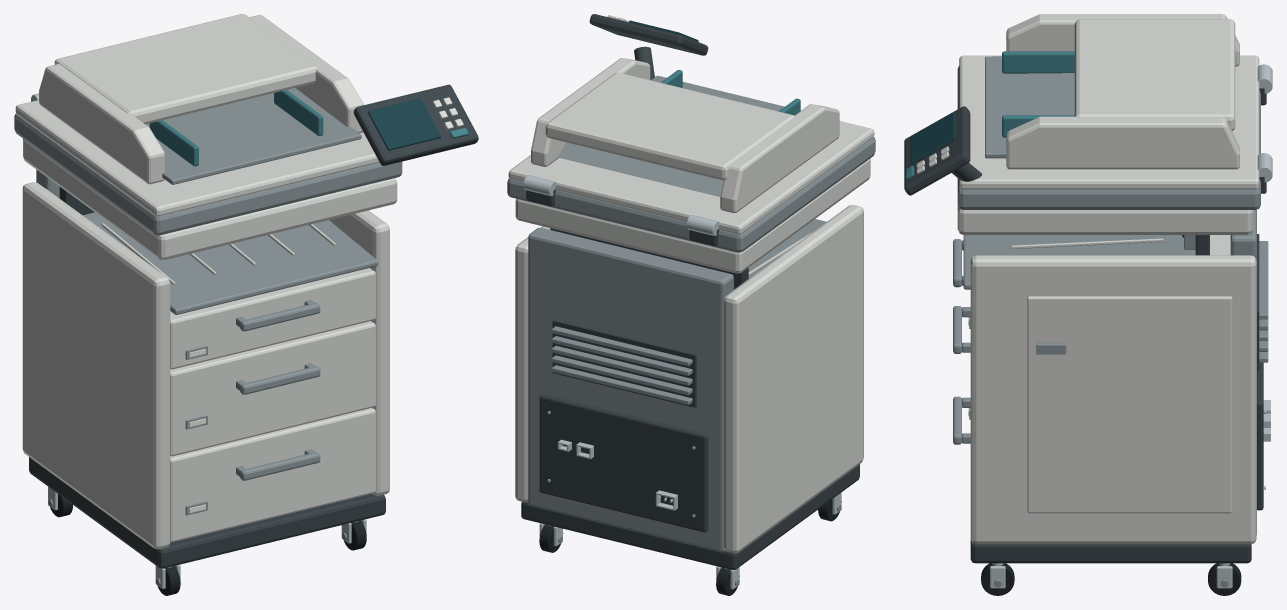
The model's file is city-office-multifunction-copier.glb.
3 views of the same model, side by side, from view 1: azimuth 30°, elevation 25°; view 2: azimuth 150°, elevation 25°; view 3: azimuth 270°, elevation 25° (orthographic). The views are drawn at different scales.
Parts seen in each view (by area): view 1: Assembly | Warm ivory molded housing, Assembly | Cool grey equipment shell, Assembly | Graphite internal fittings, Assembly | Opaque inactive display glass, Assembly | Muted teal enamel, Assembly | Matte rubber contact surfaces, Assembly | Satin machined metal; view 2: Assembly | Warm ivory molded housing, Assembly | Cool grey equipment shell, Assembly | Graphite internal fittings, Assembly | Satin machined metal, Assembly | Matte rubber contact surfaces; view 3: Assembly | Warm ivory molded housing, Assembly | Cool grey equipment shell, Assembly | Graphite internal fittings, Assembly | Muted teal enamel, Assembly | Satin machined metal, Assembly | Opaque inactive display glass, Assembly | Matte rubber contact surfaces.
Boxes of the visible parts, bbox=[...] form: Assembly | Warm ivory molded housing: bbox=[15, 14, 463, 549]; Assembly | Cool grey equipment shell: bbox=[14, 88, 402, 585]; Assembly | Graphite internal fittings: bbox=[29, 84, 478, 568]; Assembly | Opaque inactive display glass: bbox=[367, 98, 440, 150]; Assembly | Muted teal enamel: bbox=[149, 90, 468, 166]; Assembly | Matte rubber contact surfaces: bbox=[50, 494, 366, 595]; Assembly | Satin machined metal: bbox=[31, 93, 366, 588]; Assembly | Warm ivory molded housing: bbox=[508, 15, 874, 553]; Assembly | Cool grey equipment shell: bbox=[507, 75, 875, 585]; Assembly | Graphite internal fittings: bbox=[521, 14, 859, 569]; Assembly | Satin machined metal: bbox=[523, 175, 841, 589]; Assembly | Matte rubber contact surfaces: bbox=[539, 499, 841, 595]; Assembly | Warm ivory molded housing: bbox=[916, 14, 1259, 544]; Assembly | Cool grey equipment shell: bbox=[953, 56, 1268, 587]; Assembly | Graphite internal fittings: bbox=[904, 88, 1266, 563]; Assembly | Muted teal enamel: bbox=[906, 51, 1074, 179]; Assembly | Satin machined metal: bbox=[990, 64, 1272, 588]; Assembly | Opaque inactive display glass: bbox=[910, 111, 955, 164]; Assembly | Matte rubber contact surfaces: bbox=[981, 235, 1241, 595].
Size of the model in its own units: 0.764 by 1.11 by 0.7735.
